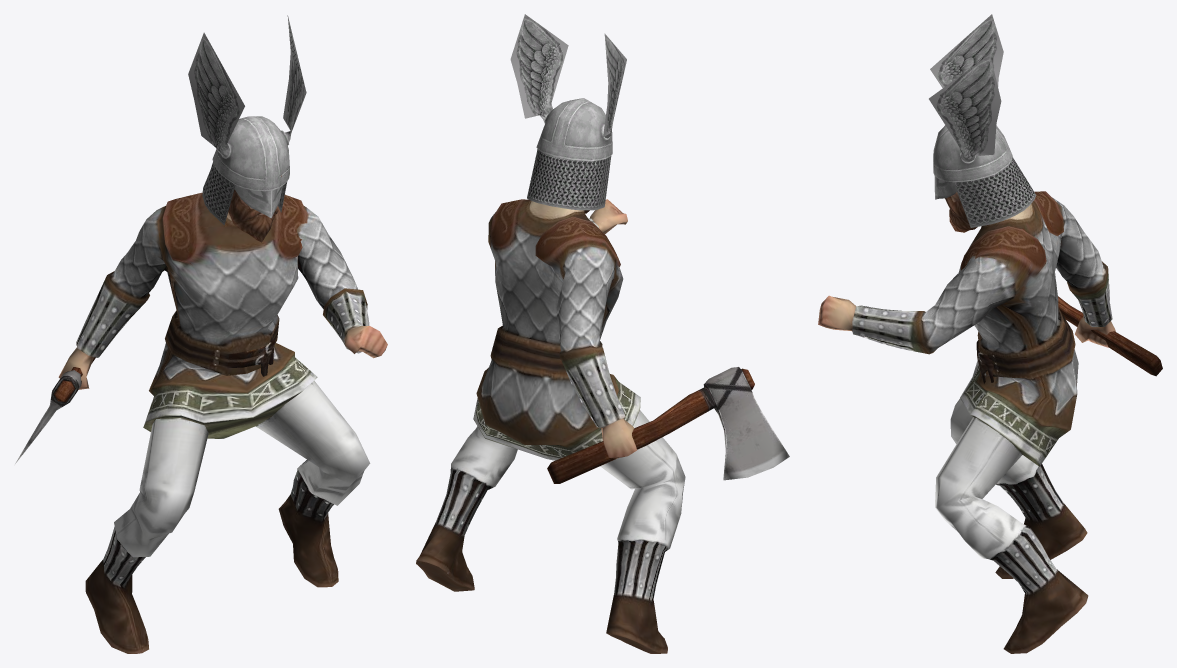
The model's file is rider-championcavalry.glb.
The picture shows the model from 3 angles, left to right: view 1: azimuth 30°, elevation 25°; view 2: azimuth 150°, elevation 25°; view 3: azimuth 270°, elevation 25°; orthographic projection. The views are drawn at different scales.
Size of the model in its own units: 1.37 by 2.33 by 1.23.
3 materials, 3 textured.
